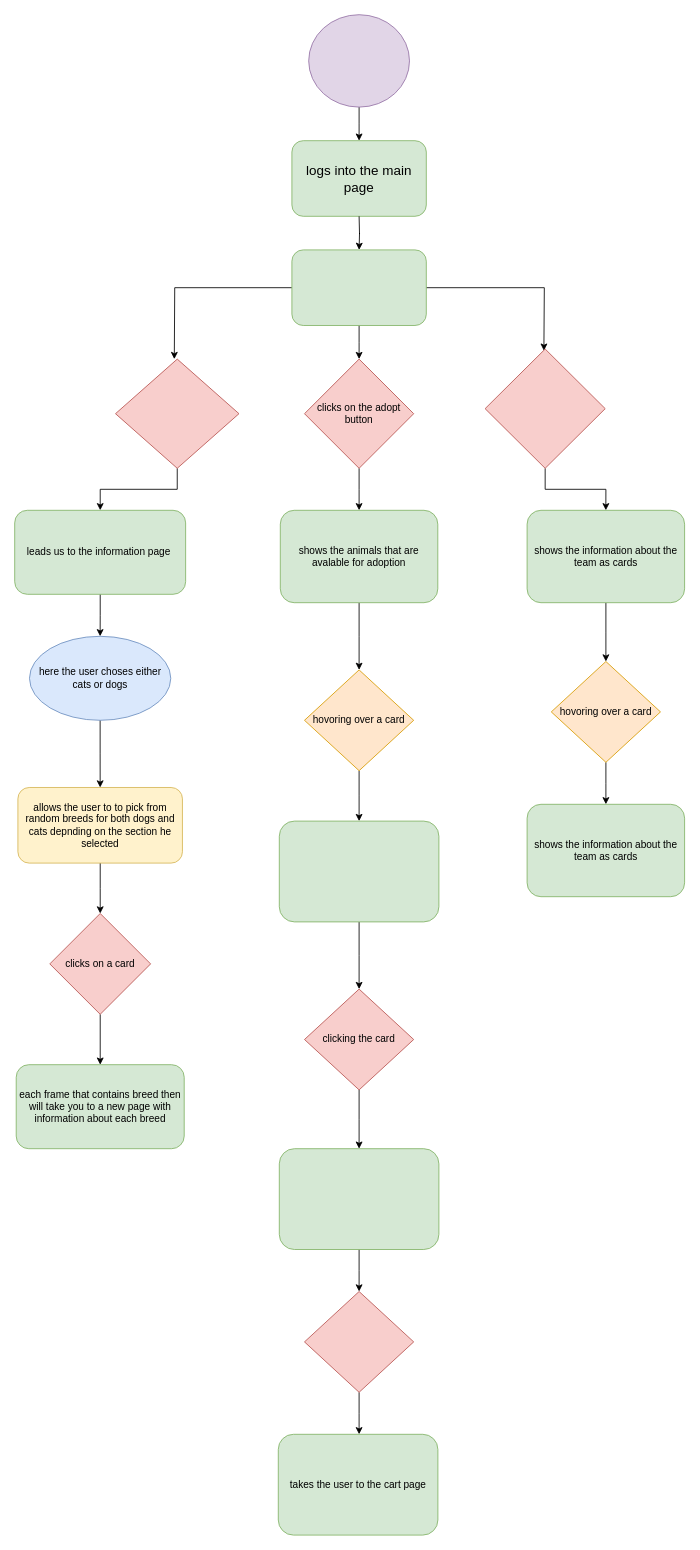
Some shapes in this 700 by 1550 pixel diagram are drawn without their labels. The box of each missing label's shape, as (x1, y1, x2, y2) in pixels:
adds the animal to the cart: (278, 1148, 439, 1250)
clicking the cart: (304, 1291, 414, 1392)
clicks on the about us button: (484, 348, 605, 468)
clicks on the read more buttom: (115, 358, 239, 468)
displays the main page: (291, 249, 426, 326)
shows information about the curtain animal name, age, breed, small info: (278, 820, 439, 922)
user: (308, 14, 410, 107)
